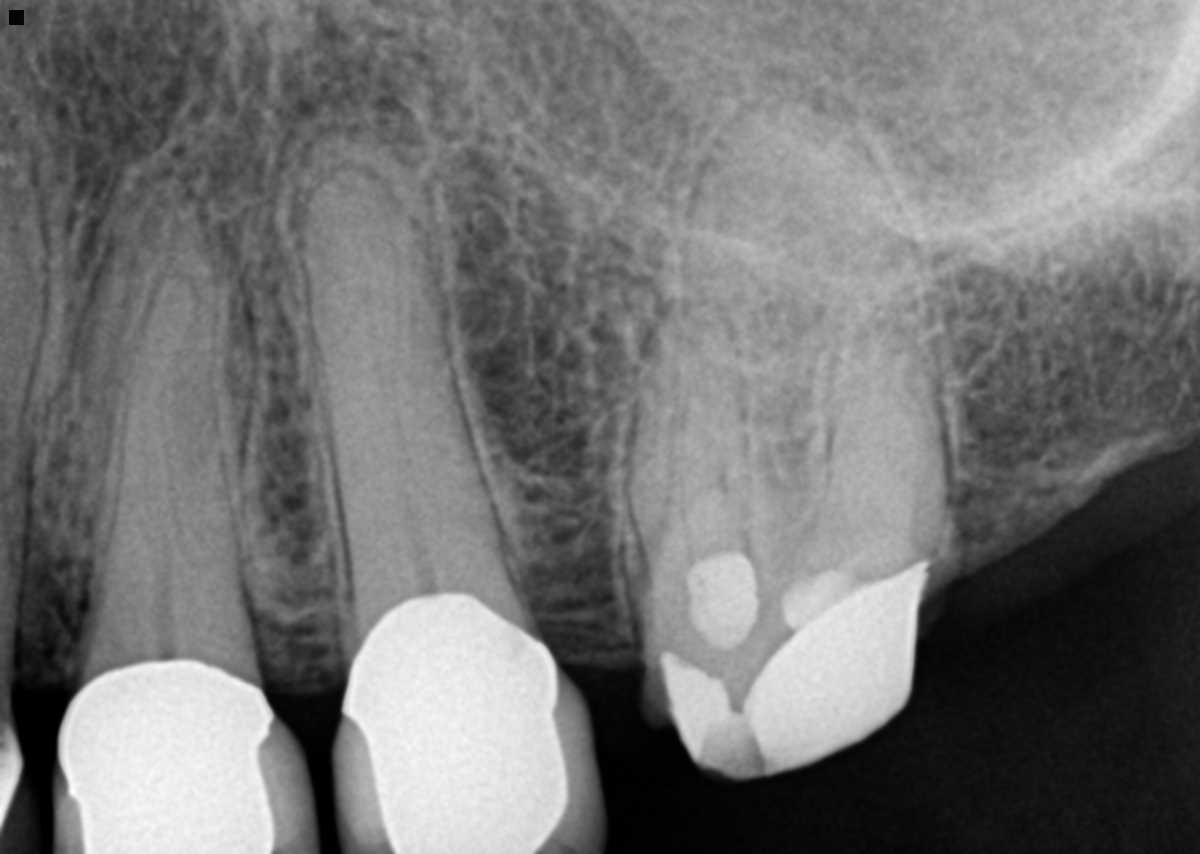Apical Lesion: (752, 64, 858, 127)
Distal Root: (819, 321, 952, 531)
Main Canal: (361, 234, 443, 603), (143, 450, 181, 661)
Main Root: (301, 165, 519, 629), (76, 252, 257, 660)
Mesial Root: (622, 300, 759, 583)
Palatal Root: (665, 93, 951, 542)
